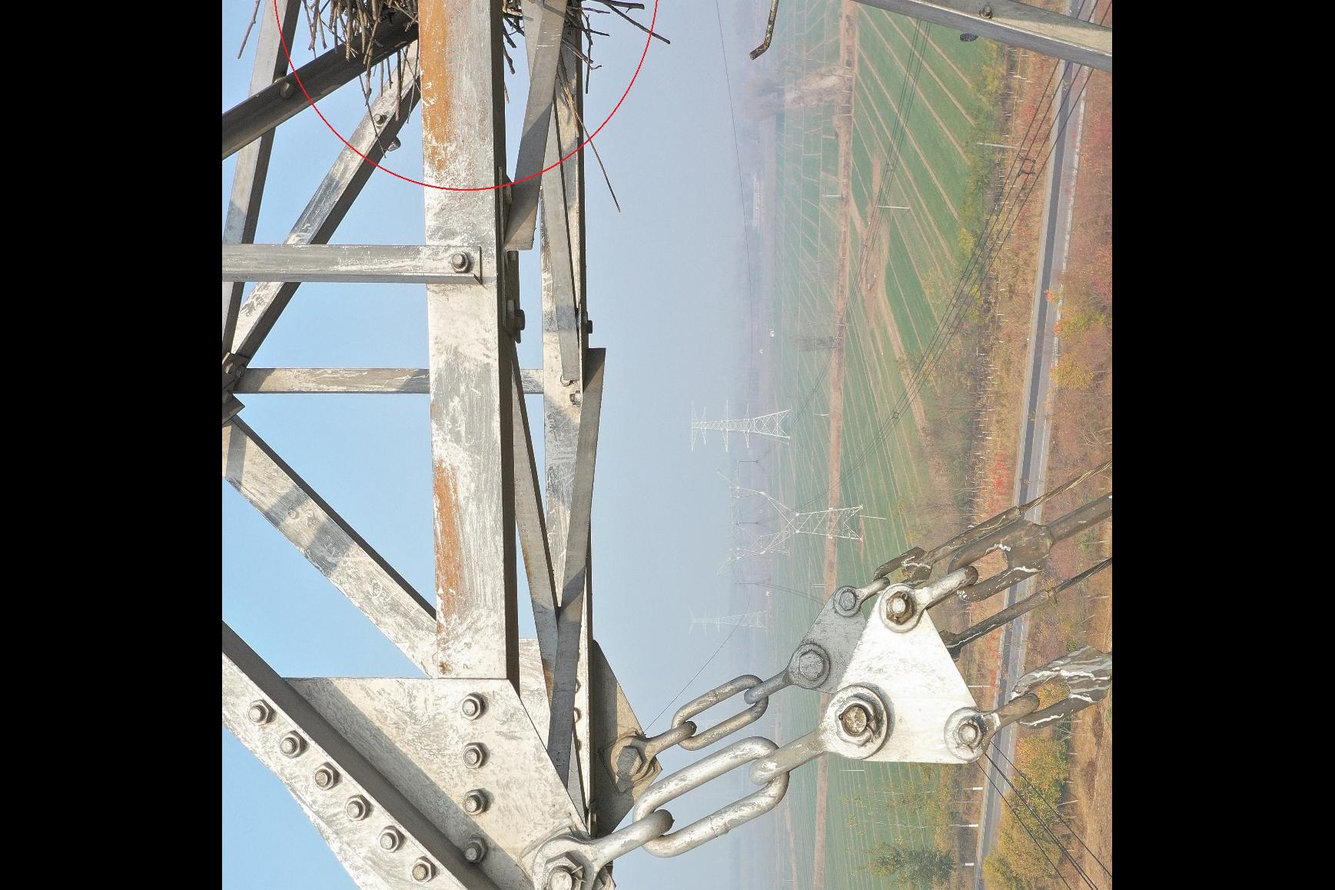nest: (289, 1, 423, 113)
